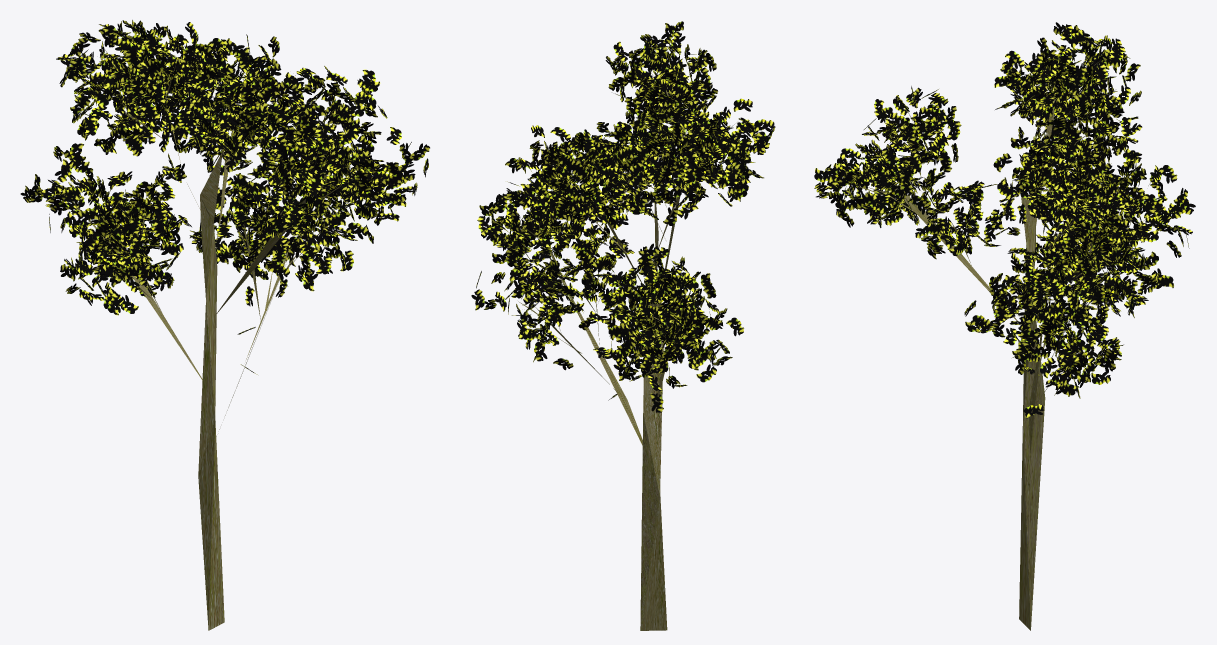
The model's file is cottonwood_river_v01_LOD2.fbx.
3 views of the same model, side by side, from view 1: azimuth 30°, elevation 25°; view 2: azimuth 150°, elevation 25°; view 3: azimuth 270°, elevation 25° (orthographic). The views are drawn at different scales.
Visible parts, largest first — view 1: cottonwood_river_v01_LOD2; view 2: cottonwood_river_v01_LOD2; view 3: cottonwood_river_v01_LOD2.
Part boxes in pixels (x1,y1,x2,y2): cottonwood_river_v01_LOD2: (20,20,429,630); cottonwood_river_v01_LOD2: (471,21,775,630); cottonwood_river_v01_LOD2: (814,22,1195,630).
Size of the model in its own units: 1660 by 1893 by 3028.
2 materials, 2 textured.
